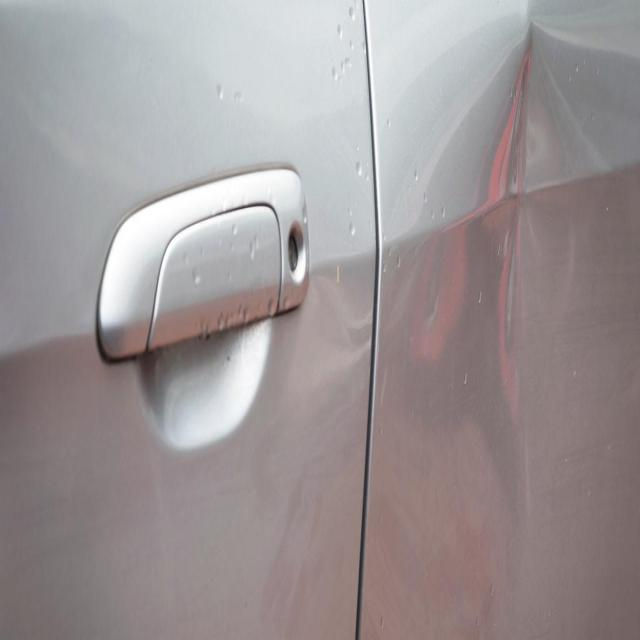dent: (378, 13, 640, 517)
